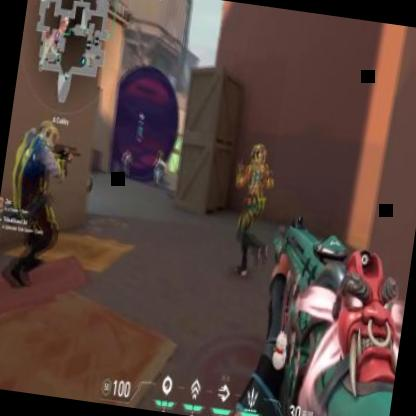enemy: (0, 111, 67, 308), (225, 140, 286, 284), (122, 144, 138, 182), (151, 152, 167, 188)
enemy_head: (249, 144, 266, 168), (42, 122, 57, 147), (158, 152, 164, 162), (127, 150, 132, 158)
